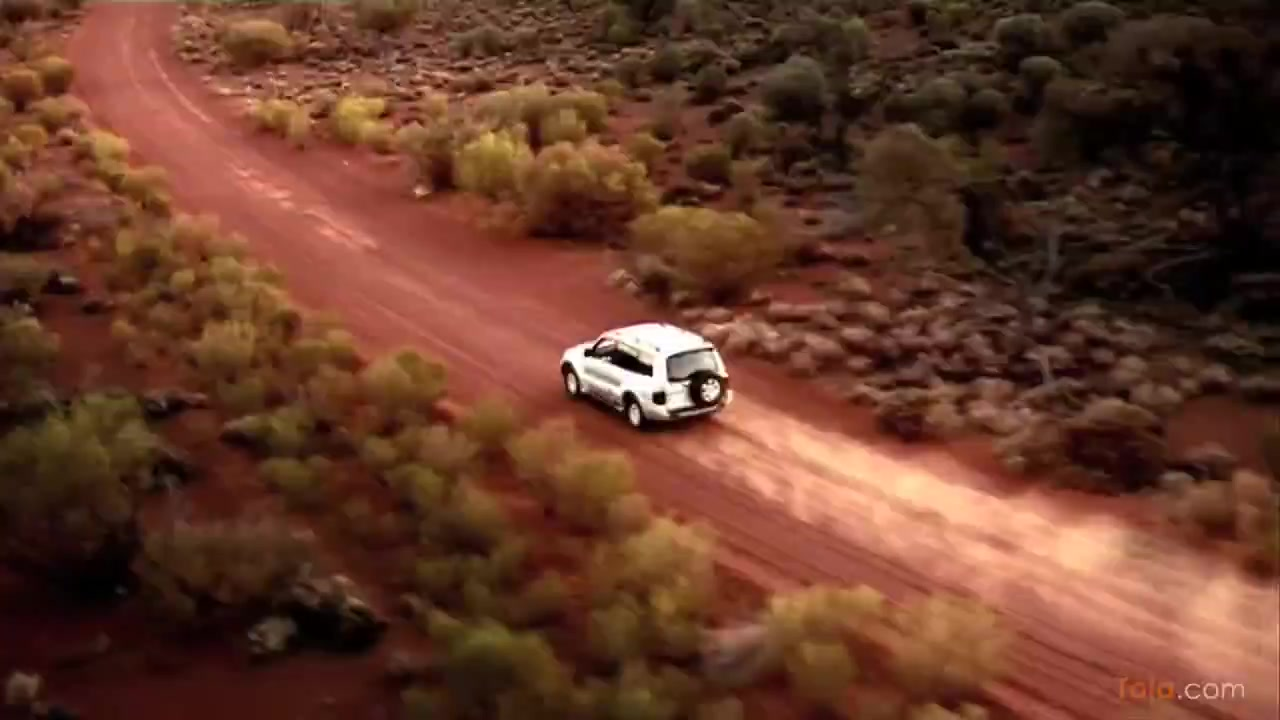car: (560, 321, 736, 437)
